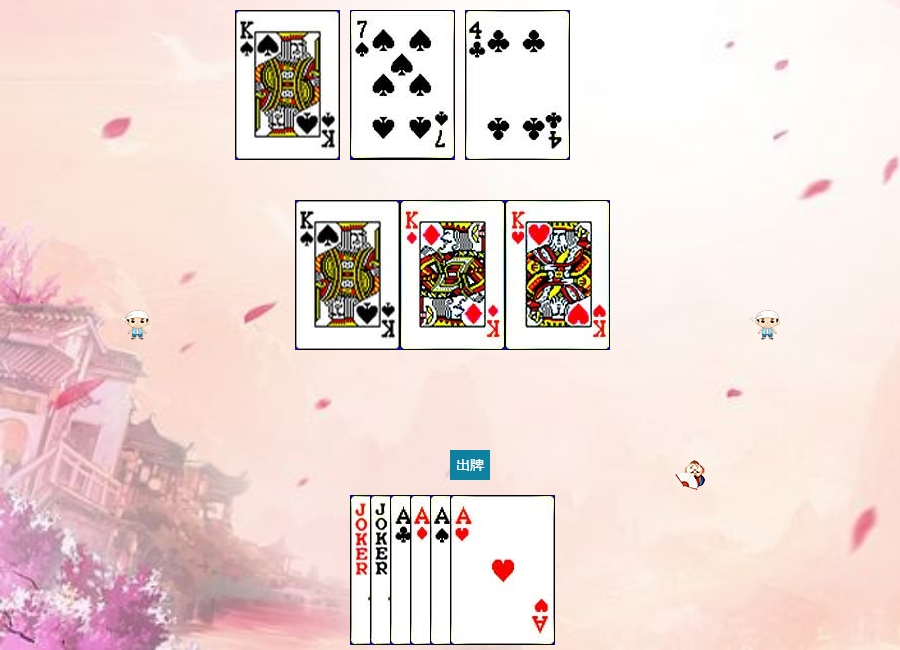13~1: (400, 200, 505, 350)
13~3: (505, 200, 610, 350)
13~4: (235, 10, 340, 160), (295, 200, 400, 350)
14~1: (410, 495, 515, 645)
14~2: (390, 495, 495, 645)
14~3: (450, 495, 555, 645)
14~4: (430, 495, 535, 645)
17~3: (370, 495, 475, 645)
18~4: (350, 495, 455, 645)
4~2: (465, 10, 570, 160)
7~4: (350, 10, 455, 160)
